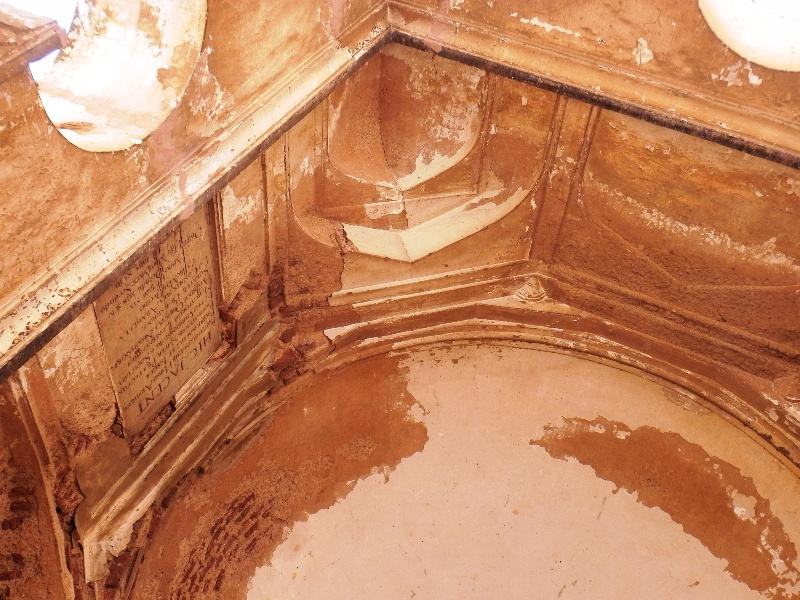Exposed Bricks: (181, 497, 273, 593)
